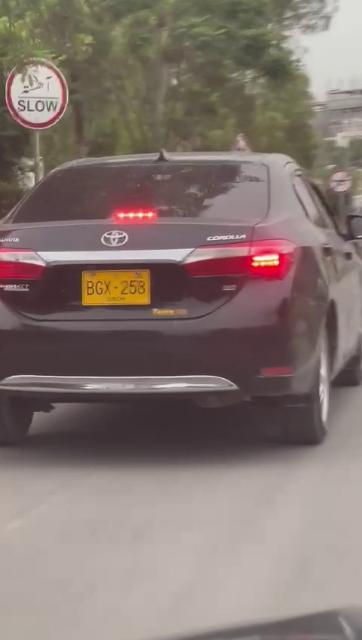plate: (82, 269, 151, 305)
